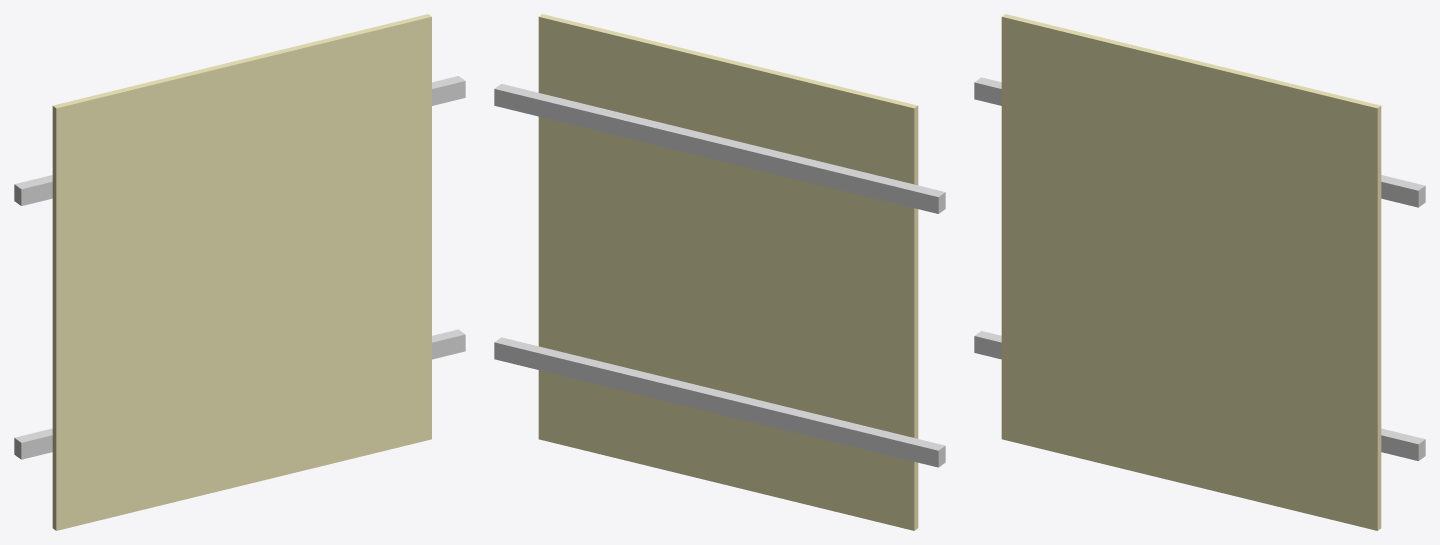
File: FVG102_j.glb
3 views of the same model, side by side, from view 1: azimuth 30°, elevation 25°; view 2: azimuth 150°, elevation 25°; view 3: azimuth 330°, elevation 25° (orthographic).
Parts seen in each view (by area): view 1: IfcCovering/Gehobelt, glatt, IfcBuildingElementProxy/VerticalElementProxy, IfcBuildingElementProxy/VerticalElementProxy.001; view 2: IfcCovering/Gehobelt, glatt, IfcBuildingElementProxy/VerticalElementProxy, IfcBuildingElementProxy/VerticalElementProxy.001; view 3: IfcCovering/Gehobelt, glatt, IfcBuildingElementProxy/VerticalElementProxy.001, IfcBuildingElementProxy/VerticalElementProxy.
Boxes of the visible parts, x1,y1,x2,y2 form: IfcCovering/Gehobelt, glatt: (52, 14, 431, 530); IfcBuildingElementProxy/VerticalElementProxy: (14, 329, 465, 459); IfcBuildingElementProxy/VerticalElementProxy.001: (14, 76, 465, 205); IfcCovering/Gehobelt, glatt: (538, 14, 918, 530); IfcBuildingElementProxy/VerticalElementProxy: (494, 337, 945, 467); IfcBuildingElementProxy/VerticalElementProxy.001: (494, 84, 945, 213); IfcCovering/Gehobelt, glatt: (1001, 14, 1381, 530); IfcBuildingElementProxy/VerticalElementProxy.001: (974, 77, 1425, 207); IfcBuildingElementProxy/VerticalElementProxy: (974, 331, 1425, 460).
Size of the model in its own units: 1.1 by 1 by 0.0463.
